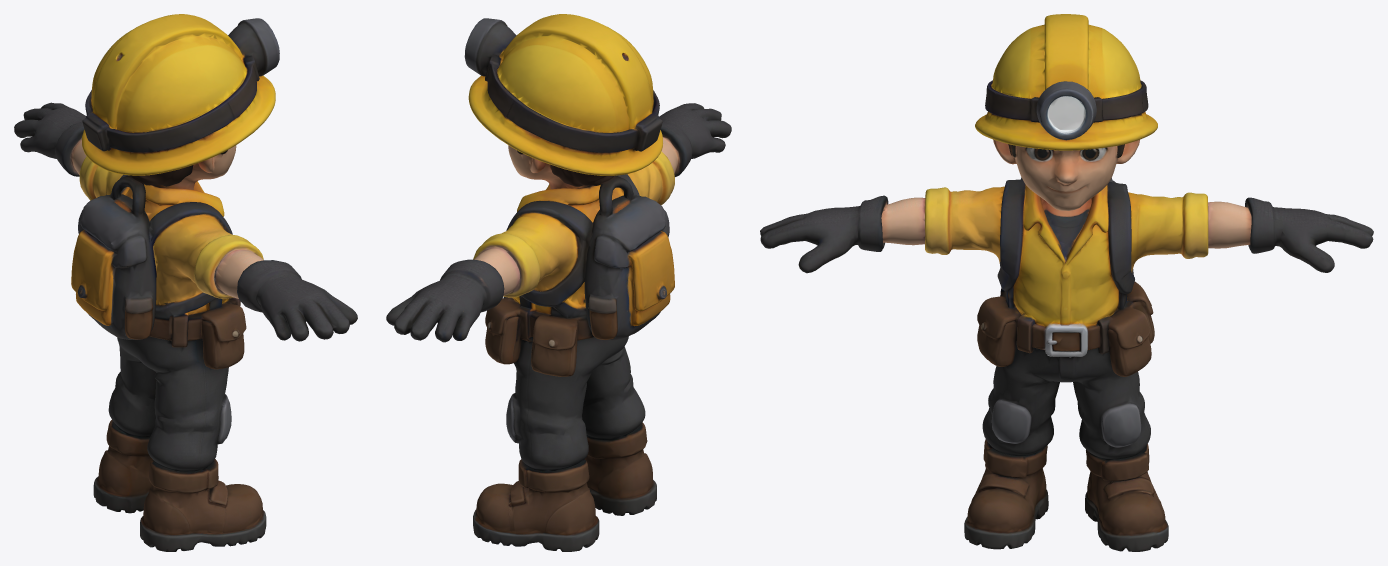
The model's file is minero.glb.
The picture shows the model from 3 angles, left to right: view 1: azimuth 30°, elevation 25°; view 2: azimuth 150°, elevation 25°; view 3: azimuth 270°, elevation 25°; orthographic projection.
Parts seen in each view (by area): view 1: tripo_node_4f90fe7c-bf79-4500-9e99-20758c97e2c1; view 2: tripo_node_4f90fe7c-bf79-4500-9e99-20758c97e2c1; view 3: tripo_node_4f90fe7c-bf79-4500-9e99-20758c97e2c1.
Part boxes in pixels (x1,y1,x2,y2): tripo_node_4f90fe7c-bf79-4500-9e99-20758c97e2c1: (14,14,357,551); tripo_node_4f90fe7c-bf79-4500-9e99-20758c97e2c1: (386,14,731,551); tripo_node_4f90fe7c-bf79-4500-9e99-20758c97e2c1: (760,14,1373,551).
Bounding box in the file's own units: 0.3624 × 0.898 × 1.
1 material, 1 textured.
